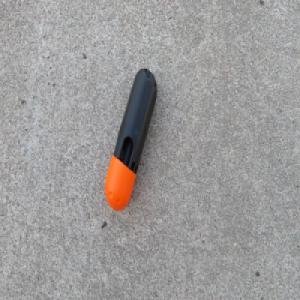PlasticPart: (103, 66, 157, 212)
